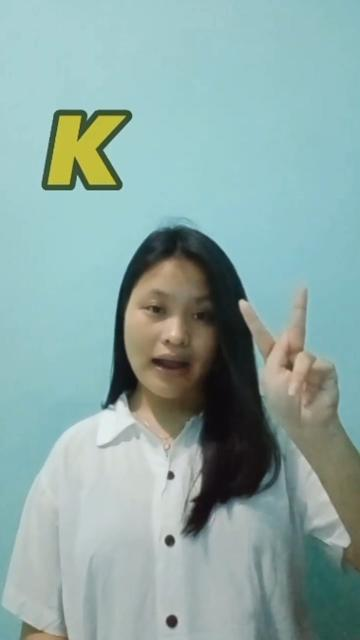K: (239, 284, 341, 436)
